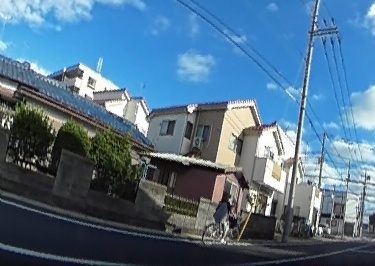person: (213, 191, 231, 237)
